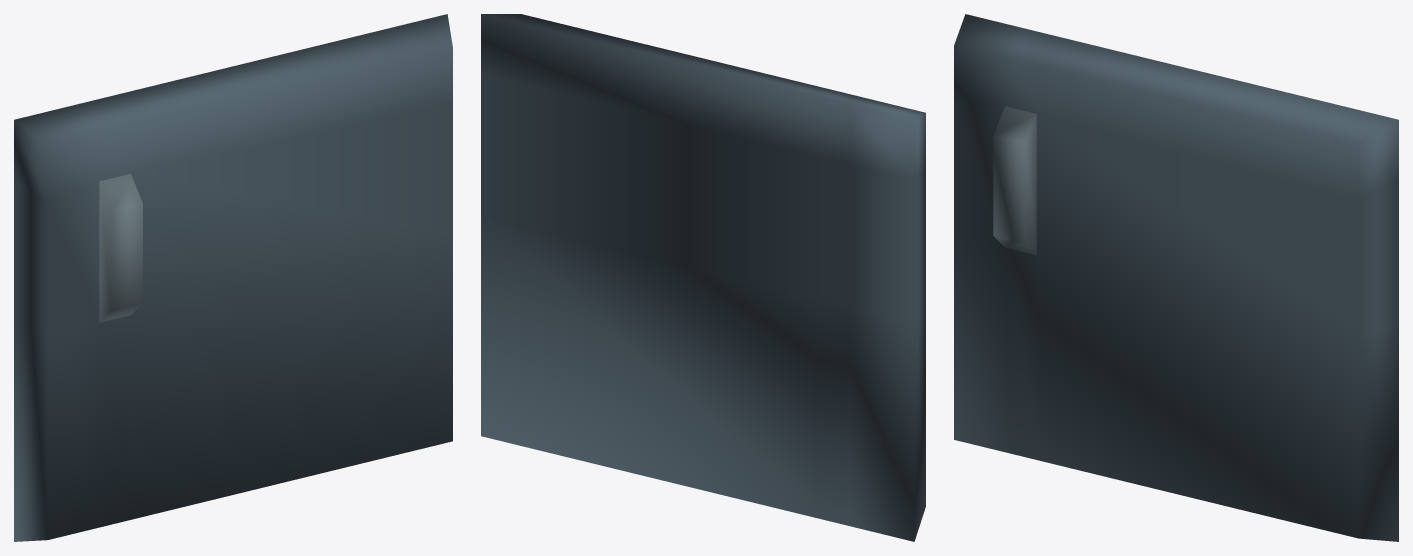
File: KitchenUnitsDoorLeft_kitchen_v1.fbx
3 views of the same model, side by side, from view 1: azimuth 30°, elevation 25°; view 2: azimuth 150°, elevation 25°; view 3: azimuth 330°, elevation 25° (orthographic).
Visible parts, largest first — view 1: Cube.001; view 2: Cube.001; view 3: Cube.001.
Boxes of the visible parts, left/top/right/bottom form: Cube.001: left=14, top=14, right=452, bottom=541; Cube.001: left=481, top=14, right=925, bottom=541; Cube.001: left=954, top=14, right=1398, bottom=541.
Size of the model in its own units: 60.91 by 56.68 by 8.44.
